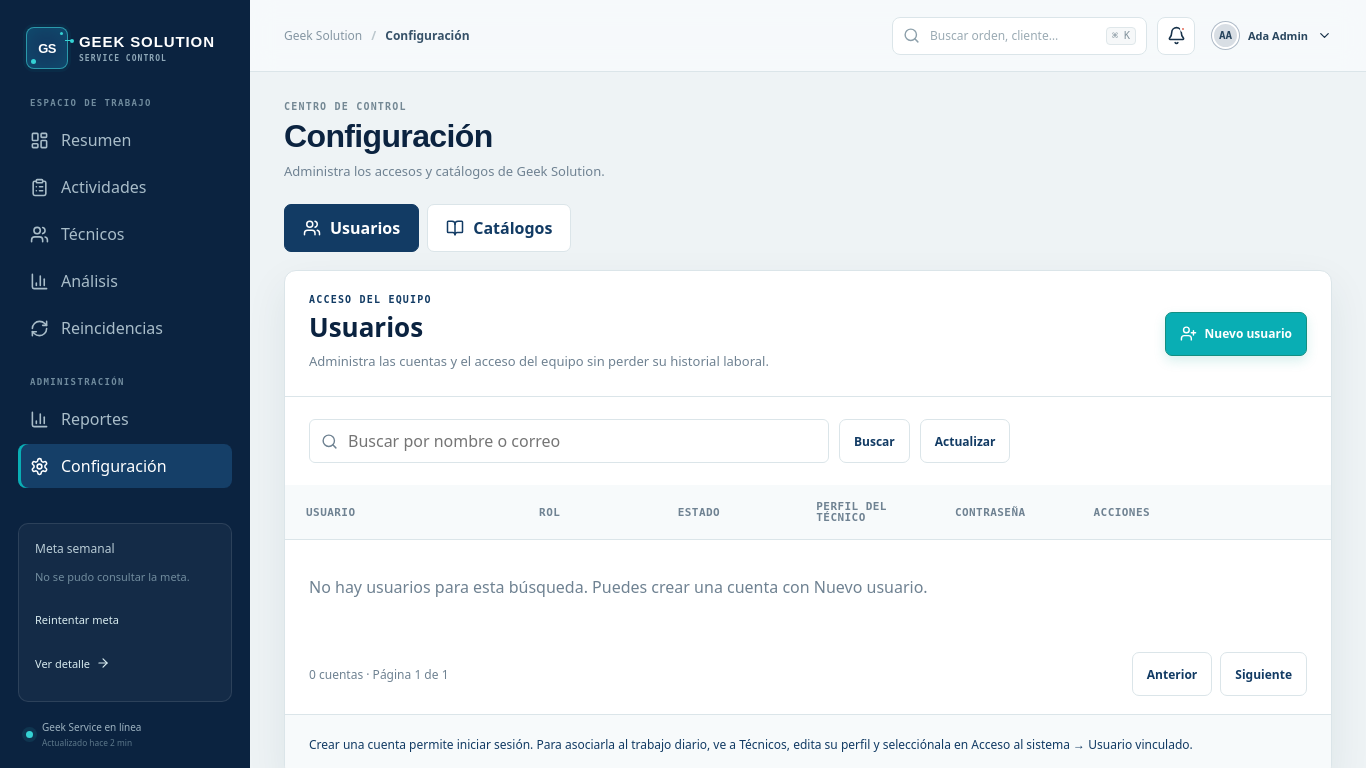
Test: catálogos en Configuración › abre los tres catálogos desde Configuración sin perder Usuarios
The width and height of the screenshot is (1366, 768).
Click the button "Catálogos". click: x=499, y=228
box: [427,204,571,252]
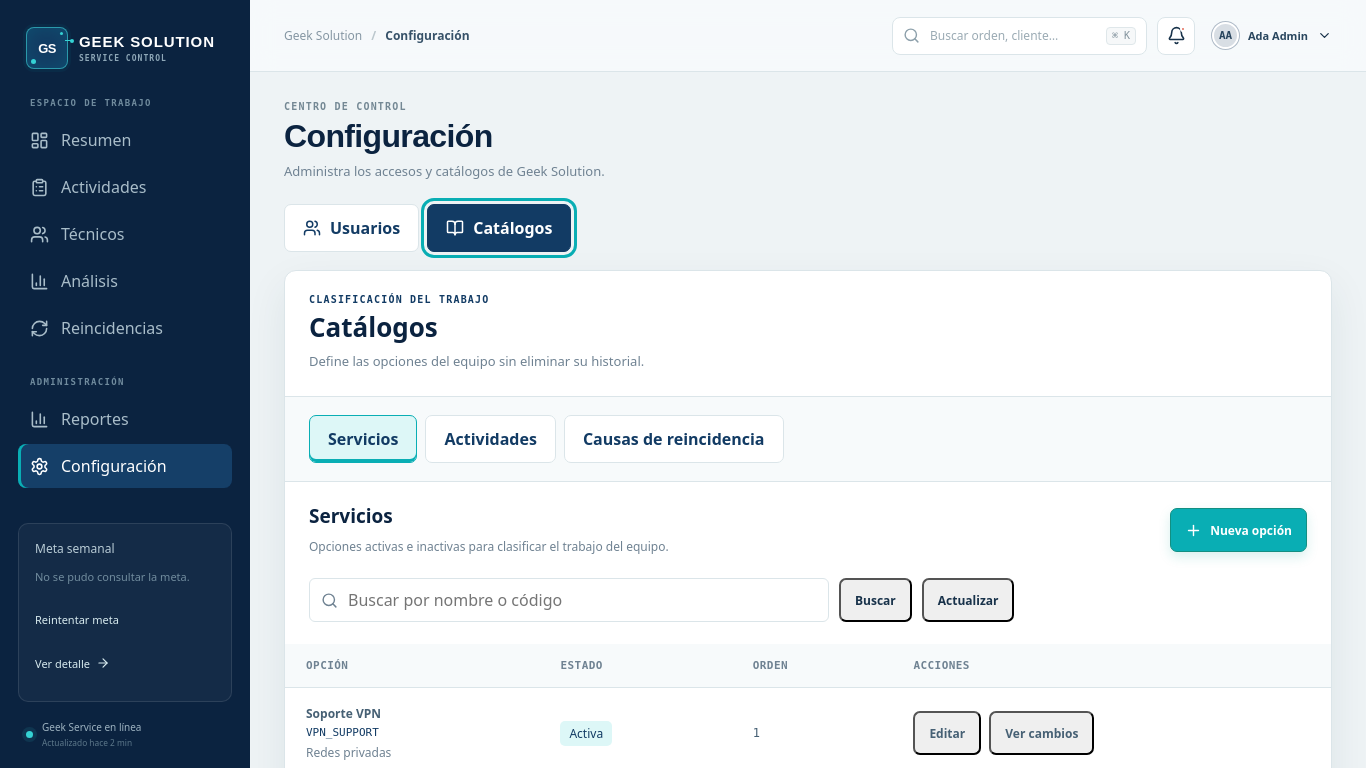
Expected: the text "Soporte VPN" is shown, [306,705,381,722]
Click the button "Actividades" below "Clasificación del trabajo". click: x=491, y=439
box: [426,415,556,463]
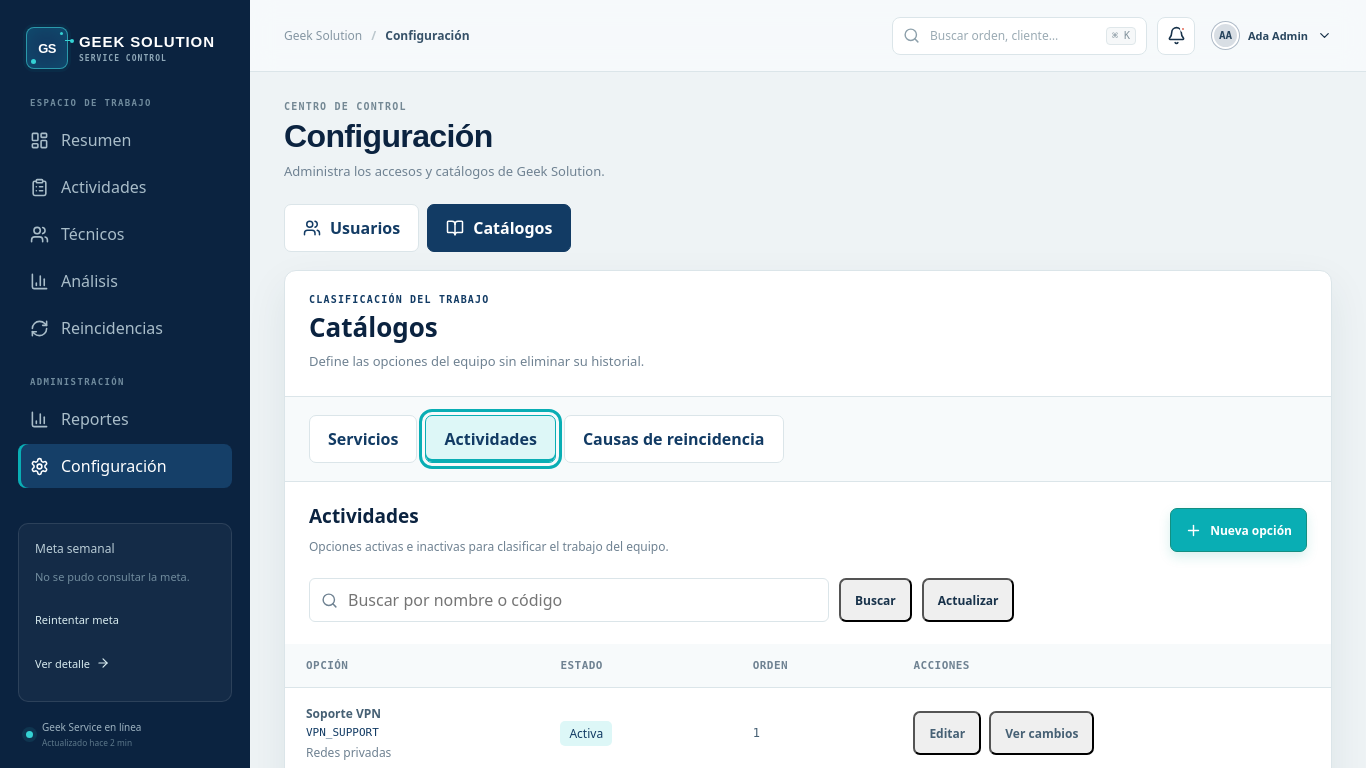
Click the button "Causas de reincidencia". click: x=674, y=439
box: [564,415,784,463]
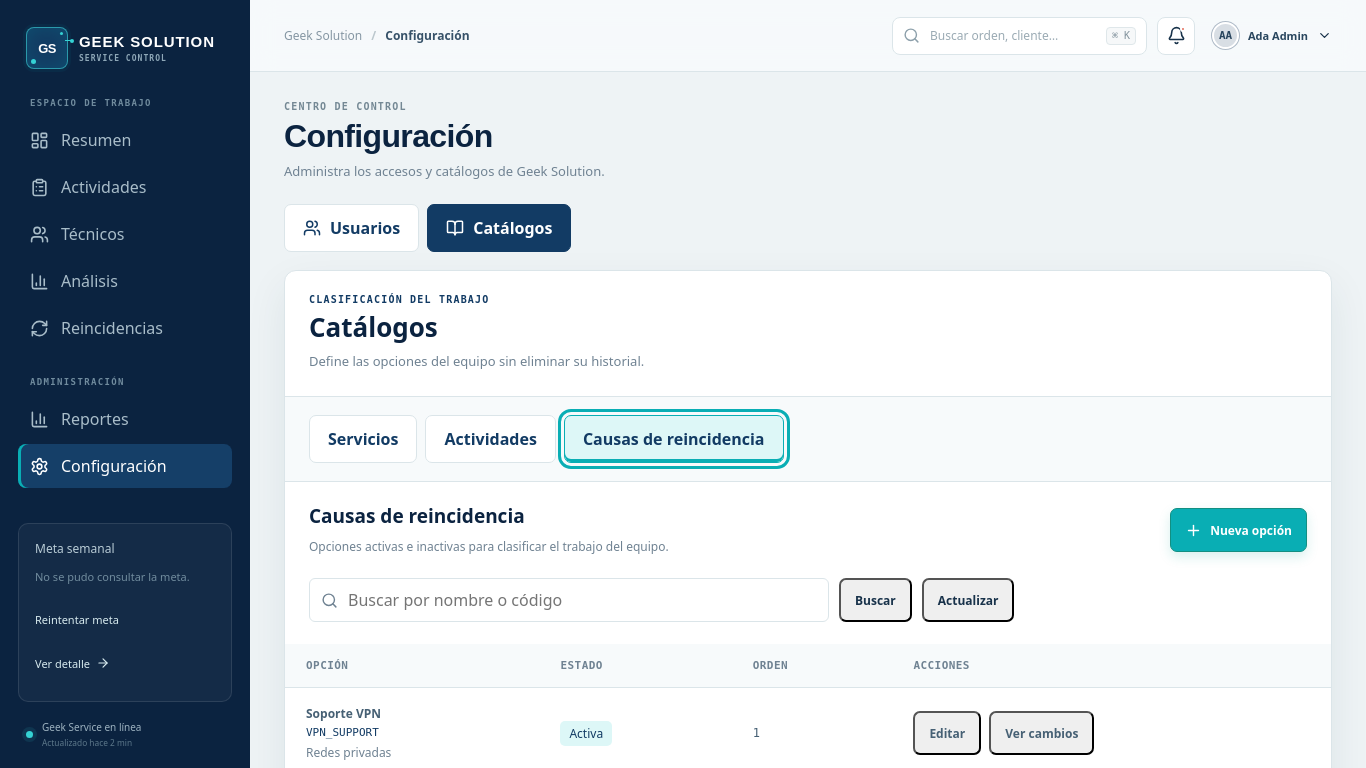
Click the button "Usuarios". click: x=352, y=228
box: [284,204,419,252]
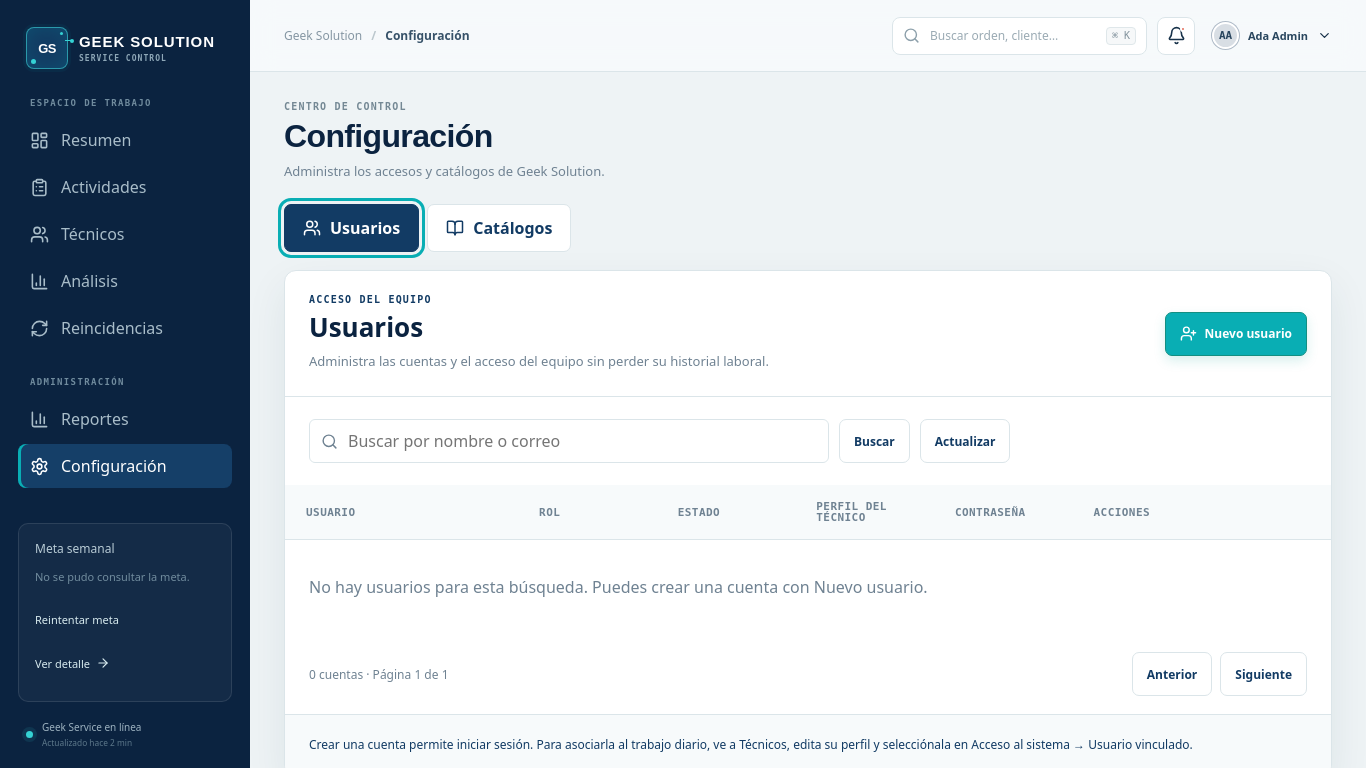
Expected: the button "Nuevo usuario" is shown, [1165,312,1307,356]
